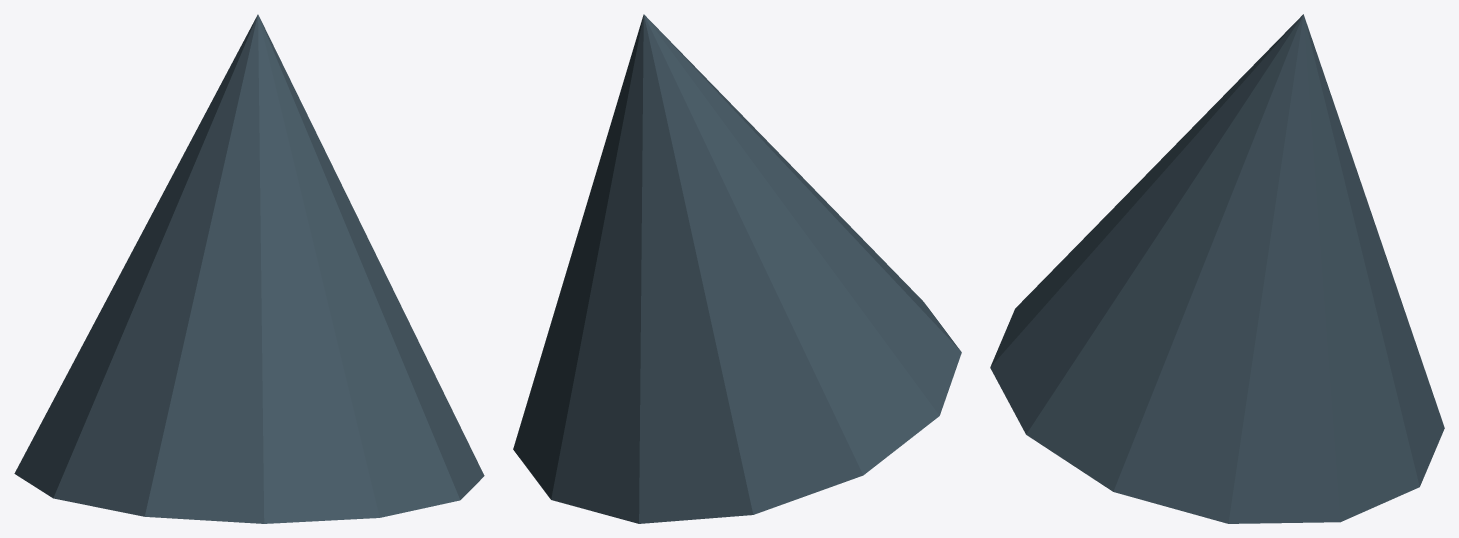
Rendered from astronaut_spawn_group657325723_lev4.glb.
3 views of the same model, side by side, from view 1: azimuth 30°, elevation 25°; view 2: azimuth 150°, elevation 25°; view 3: azimuth 270°, elevation 25° (orthographic). The views are drawn at different scales.
Visible parts, largest first — view 1: astronaut_spawn_group657325723_lev4; view 2: astronaut_spawn_group657325723_lev4; view 3: astronaut_spawn_group657325723_lev4.
Part boxes in pixels (left/top/right/bottom): astronaut_spawn_group657325723_lev4: left=14, top=14, right=484, bottom=523; astronaut_spawn_group657325723_lev4: left=513, top=14, right=961, bottom=523; astronaut_spawn_group657325723_lev4: left=990, top=14, right=1444, bottom=523.
Bounding box in the file's own units: 0.1531 × 0.1681 × 0.1519.
